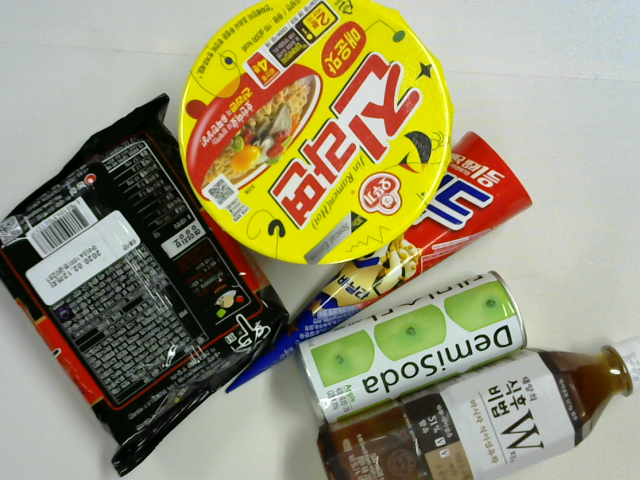Demisoda_Apple_Can_250ml: (300, 266, 531, 422)
Jinlamyeon_Hot_Taste_Large_Cup: (178, 2, 448, 267)
Post-meal_recipe_W_tea_500ml: (315, 337, 640, 480)
Sinramen_Black: (1, 92, 286, 476)
World_Cone_Banila: (230, 131, 531, 394)
